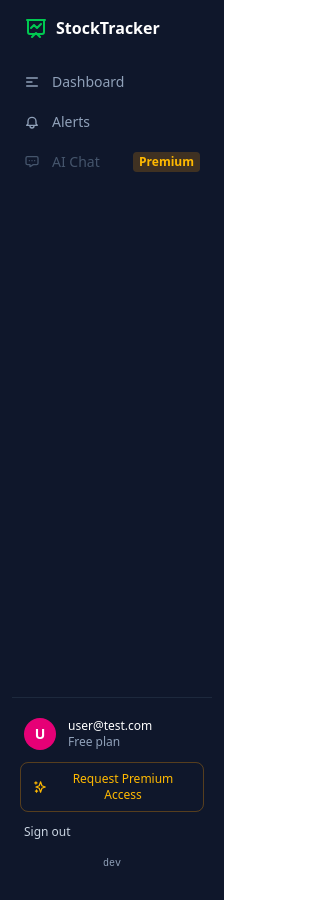
Test: Sidebar › premium request › shows confirm dialog when Request Premium Access clicked
Click the button "Request Premium Access": (112, 787) [20, 762, 204, 812]
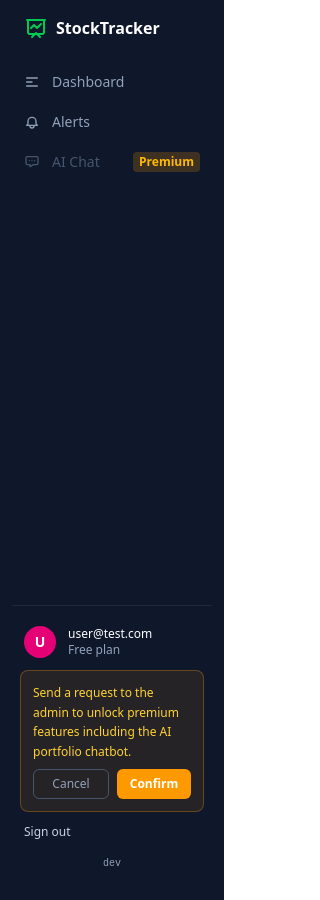
Expected: the button "Confirm" is shown, [117, 769, 191, 799]
Expected: the button "Cancel" is shown, [33, 769, 109, 799]
